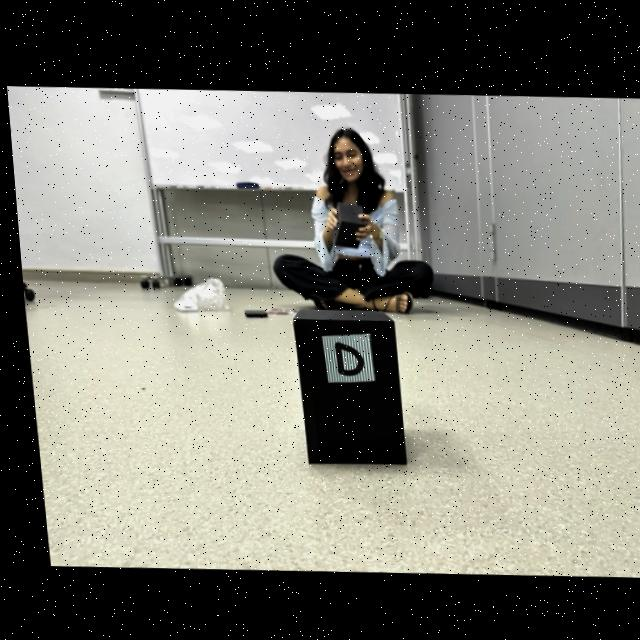D: (328, 339, 357, 371)
